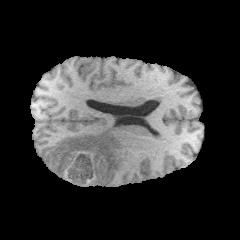glioma: (49, 128, 124, 186)
